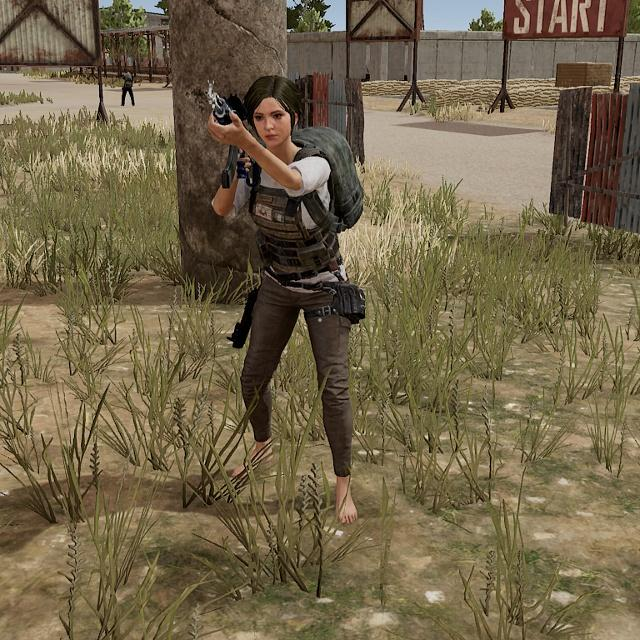head: (241, 70, 304, 156)
people: (211, 69, 375, 527), (118, 66, 140, 110)
